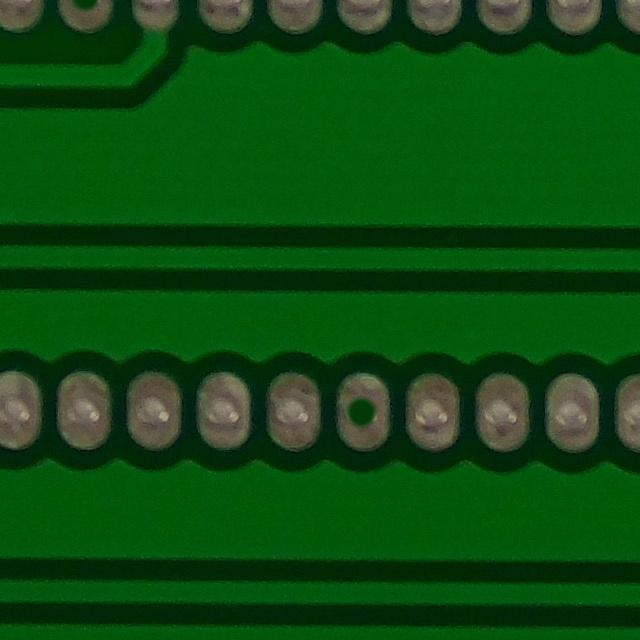missing_hole: (323, 366, 406, 456)
